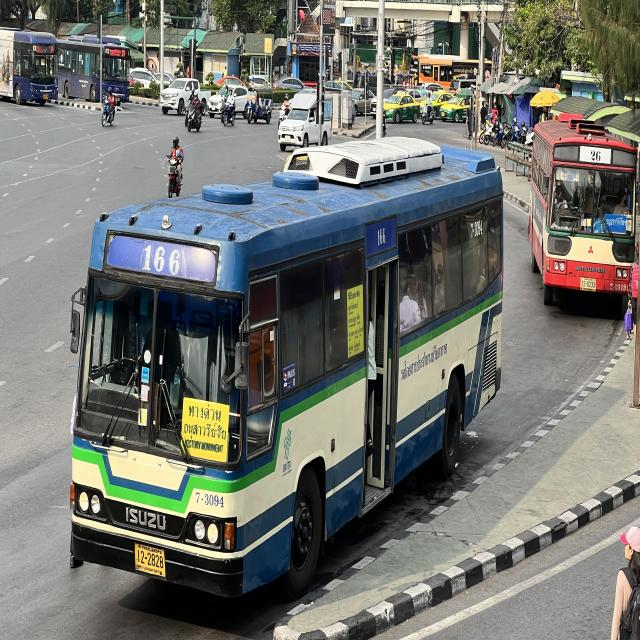BMTA-bus: (68, 138, 504, 604), (527, 116, 640, 320), (414, 52, 499, 92)
Bus-Line-Number: (138, 232, 188, 285), (580, 146, 612, 166)
Destination-Sign-Normal: (604, 213, 629, 235)
Destination-Sign-Normal-Expressway: (180, 397, 230, 466)
TSB-Bus: (59, 29, 130, 116), (6, 20, 61, 110)
